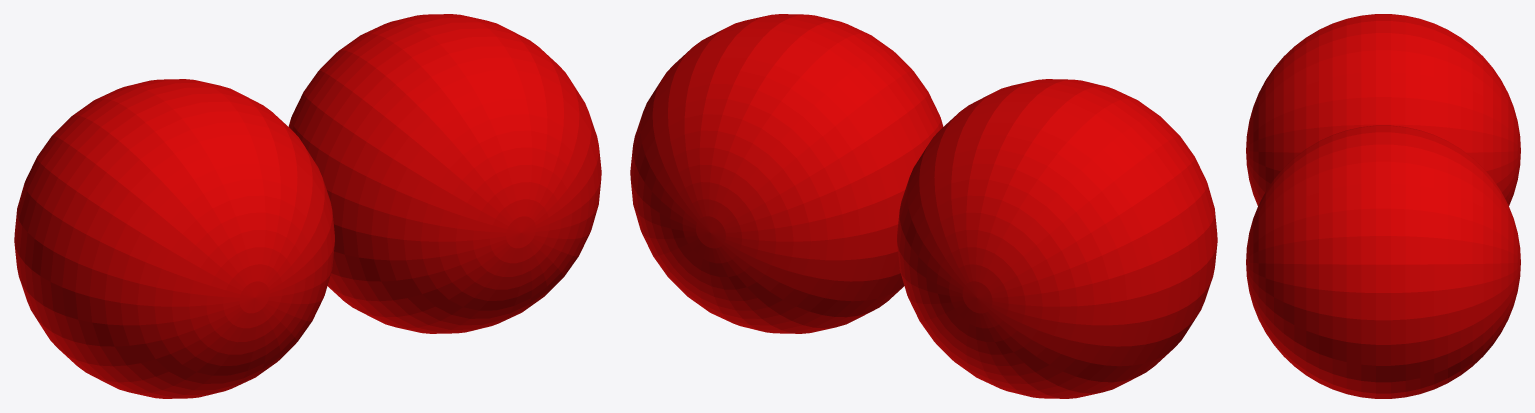
The model's file is Oxygen.glb.
3 renders of one model, left to right at view 1: azimuth 30°, elevation 25°; view 2: azimuth 150°, elevation 25°; view 3: azimuth 270°, elevation 25°, orthographic. The views are drawn at different scales.
Visible parts, largest first — view 1: world; view 2: world; view 3: world.
Part boxes in pixels (<box>): world: <box>14,14,601,398</box>; world: <box>630,14,1217,398</box>; world: <box>1246,14,1520,398</box>.
Bounding box in the file's own units: 2.35 × 1.19 × 1.2.
